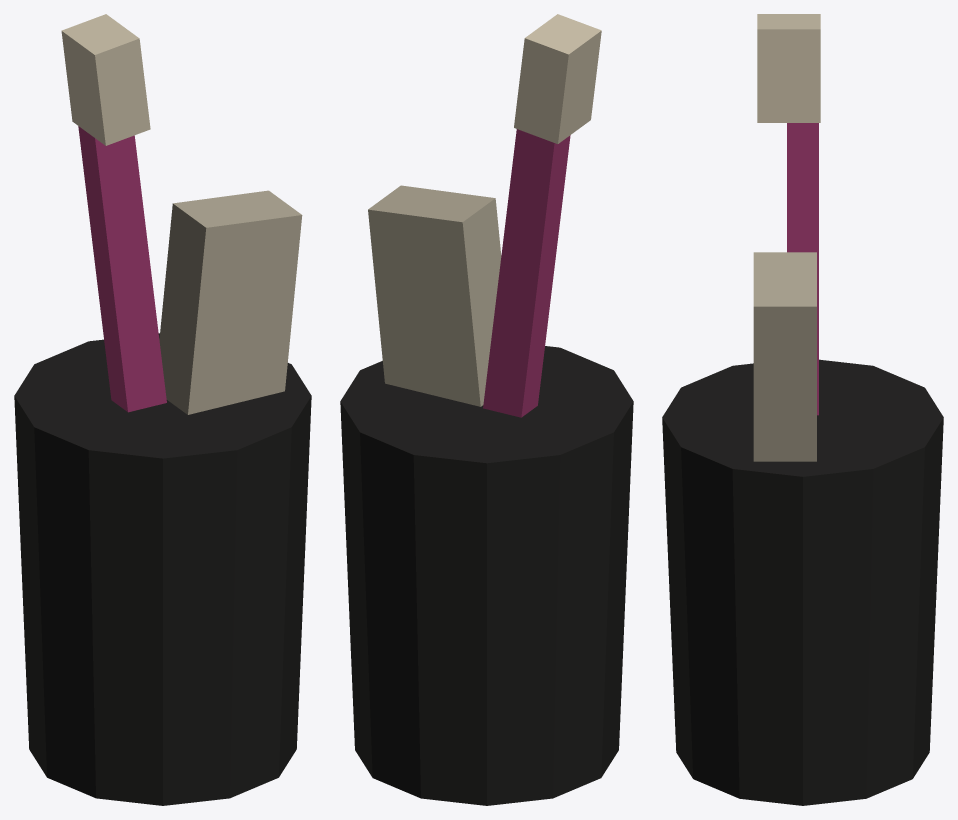
Rendered from toothbrush-holder-vibe.glb.
3 renders of one model, left to right at view 1: azimuth 30°, elevation 25°; view 2: azimuth 150°, elevation 25°; view 3: azimuth 270°, elevation 25°, orthographic. The views are drawn at different scales.
Parts seen in each view (by area): view 1: rubber, plastic-light, accent-magenta, paper; view 2: rubber, plastic-light, accent-magenta, paper; view 3: rubber, plastic-light, paper, accent-magenta.
Boxes of the visible parts, x1,y1,x2,y2 form: rubber: (14, 333, 311, 805); plastic-light: (159, 190, 302, 414); accent-magenta: (78, 126, 166, 412); paper: (61, 14, 150, 145); rubber: (340, 346, 633, 805); plastic-light: (368, 185, 501, 406); accent-magenta: (483, 129, 570, 417); paper: (514, 14, 601, 143); rubber: (662, 359, 943, 805); plastic-light: (753, 252, 816, 461); paper: (757, 14, 820, 122); accent-magenta: (787, 123, 818, 415).
Bounding box in the file's own units: 0.08 × 0.2197 × 0.08.
